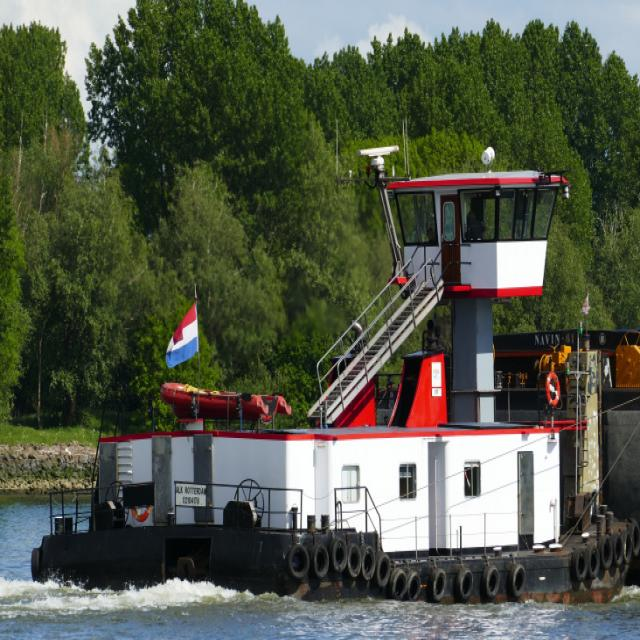tugboat: (28, 142, 640, 618)
